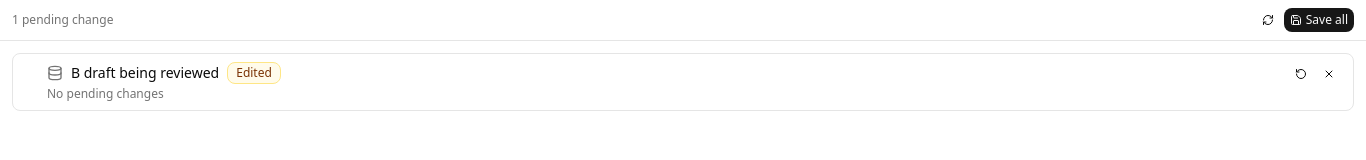
Scenario: Canvas response context › keeps B's actual row attached to actions after A's stale load completes
Expected: the text "B draft being reviewed" is shown, [71, 63, 219, 83]
Step 1. Click the button with test id "canvas-revert-shared_dataset" → (1301,74), box [1289, 62, 1313, 86]
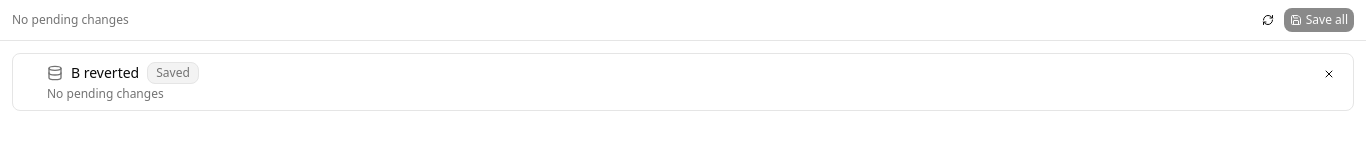
Expected: the text "B reverted" is shown, [71, 63, 139, 83]
